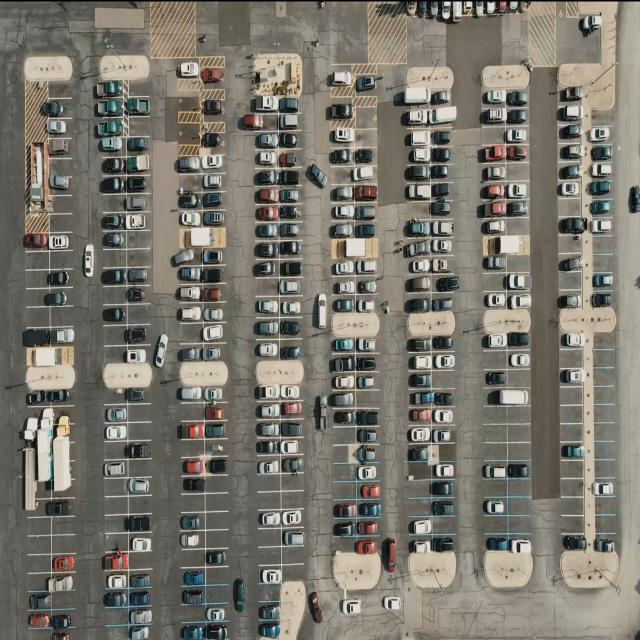space-empty: (125, 115, 153, 136), (353, 105, 378, 128), (103, 324, 128, 346), (198, 228, 225, 248), (51, 306, 75, 328), (103, 532, 129, 552), (102, 285, 128, 305), (24, 308, 50, 328), (557, 199, 583, 219), (558, 235, 584, 255), (103, 442, 129, 462), (125, 77, 152, 96), (252, 278, 279, 297), (409, 462, 436, 481), (178, 322, 202, 343), (404, 202, 432, 220), (252, 113, 280, 131), (104, 478, 129, 498), (49, 195, 74, 215), (482, 350, 507, 370), (483, 442, 508, 462), (508, 442, 533, 462), (103, 514, 128, 534), (353, 129, 378, 149), (129, 422, 154, 442), (480, 127, 506, 146), (102, 194, 128, 213), (205, 492, 231, 511), (127, 403, 153, 422), (258, 491, 284, 510), (52, 533, 78, 552), (178, 124, 201, 145), (593, 384, 616, 405), (27, 516, 51, 536), (508, 368, 532, 388), (28, 534, 52, 554), (258, 527, 282, 547), (206, 566, 230, 586), (592, 348, 616, 368), (560, 478, 584, 498), (507, 253, 531, 273), (558, 272, 582, 292), (128, 247, 152, 267), (333, 462, 357, 482), (332, 444, 356, 464), (506, 496, 530, 516), (102, 248, 127, 267), (26, 250, 51, 269), (176, 173, 201, 192), (180, 493, 205, 512), (433, 516, 458, 535), (593, 332, 618, 351), (103, 495, 128, 514), (507, 480, 532, 499), (280, 545, 305, 564), (281, 562, 306, 581), (49, 159, 74, 178), (507, 407, 532, 426), (180, 441, 206, 459), (484, 516, 510, 534), (52, 516, 78, 534), (52, 592, 78, 610), (332, 426, 358, 444), (105, 607, 131, 625), (128, 304, 150, 325), (260, 584, 283, 604), (593, 366, 616, 386), (179, 604, 206, 621), (506, 163, 530, 182), (433, 371, 457, 390), (560, 349, 584, 368), (590, 255, 614, 274), (129, 458, 153, 477), (28, 554, 52, 573), (560, 386, 584, 405), (259, 475, 283, 494), (509, 516, 533, 535), (483, 273, 507, 292), (507, 217, 531, 236), (591, 236, 615, 255), (260, 547, 284, 566), (128, 231, 152, 250), (355, 389, 379, 408), (206, 529, 230, 548), (408, 480, 432, 499), (206, 512, 230, 531), (334, 481, 358, 500), (25, 270, 49, 289), (484, 407, 508, 426), (560, 496, 584, 515), (26, 288, 50, 307), (180, 550, 205, 568), (179, 404, 204, 422), (408, 498, 433, 516), (560, 405, 582, 425), (561, 459, 584, 478), (280, 472, 303, 491), (484, 423, 507, 442), (281, 490, 304, 509), (50, 213, 73, 232), (508, 424, 532, 442), (130, 553, 154, 571), (206, 476, 230, 494), (333, 534, 357, 552), (590, 108, 614, 126), (484, 480, 508, 498), (48, 80, 72, 98), (560, 516, 584, 534), (28, 573, 50, 592), (594, 405, 616, 424), (594, 423, 616, 442), (594, 442, 616, 461), (104, 345, 126, 364), (50, 250, 73, 268), (129, 496, 152, 514), (331, 167, 354, 185), (207, 586, 230, 604), (560, 424, 583, 442), (178, 97, 202, 114), (595, 459, 616, 478), (436, 444, 457, 463), (594, 497, 616, 515), (595, 516, 617, 534), (105, 386, 127, 404), (108, 626, 130, 640), (30, 628, 54, 640)
space-occupied: (495, 386, 531, 406), (94, 98, 123, 119), (332, 99, 356, 124), (331, 65, 355, 90), (486, 385, 516, 405), (124, 96, 151, 118), (45, 118, 72, 140), (405, 292, 433, 313), (558, 214, 586, 235), (404, 106, 432, 127), (96, 117, 125, 137), (102, 304, 128, 326), (44, 98, 71, 119), (94, 78, 121, 99), (405, 181, 433, 201), (202, 96, 225, 120), (402, 89, 431, 108), (253, 318, 279, 339), (431, 105, 457, 126), (587, 178, 614, 198), (405, 217, 432, 237), (405, 238, 432, 258), (257, 296, 281, 318), (202, 321, 226, 343), (201, 65, 225, 87), (126, 155, 151, 176), (330, 126, 355, 147), (177, 59, 202, 80), (100, 137, 126, 157), (102, 211, 128, 231), (102, 231, 128, 251), (254, 220, 280, 240), (258, 510, 284, 530), (179, 528, 205, 548), (409, 444, 435, 464), (178, 420, 204, 440), (482, 459, 508, 479), (332, 408, 358, 428), (558, 103, 584, 123), (50, 573, 76, 593), (101, 268, 128, 287), (434, 274, 461, 293), (406, 274, 433, 293), (355, 72, 377, 95), (508, 348, 532, 369), (47, 175, 71, 196), (558, 288, 582, 309), (178, 303, 202, 324), (256, 339, 280, 360), (591, 288, 615, 309), (480, 201, 508, 219), (481, 106, 506, 126), (47, 138, 72, 158), (507, 273, 532, 293), (481, 180, 506, 200), (176, 283, 201, 303), (101, 157, 126, 177), (179, 512, 204, 532), (104, 553, 129, 573), (255, 401, 280, 421), (26, 386, 51, 406), (432, 294, 457, 314), (126, 137, 152, 156), (481, 333, 507, 352), (252, 95, 278, 114), (558, 125, 584, 144), (480, 144, 506, 163), (200, 247, 226, 266), (558, 142, 584, 161), (406, 164, 432, 183), (481, 217, 507, 236), (279, 317, 302, 338), (280, 340, 303, 361), (202, 130, 225, 151), (128, 267, 152, 287), (52, 553, 76, 573), (330, 148, 354, 168), (260, 564, 284, 584), (127, 211, 151, 231), (51, 326, 75, 346), (433, 350, 457, 370), (129, 568, 153, 588), (561, 442, 585, 462), (26, 232, 50, 252), (590, 198, 614, 218), (484, 496, 508, 516), (483, 288, 507, 308), (408, 351, 432, 371), (409, 424, 433, 444), (408, 256, 432, 276), (332, 372, 356, 392), (355, 536, 379, 556), (433, 256, 457, 276), (557, 179, 582, 198), (352, 146, 377, 165), (102, 175, 127, 194), (256, 131, 281, 150), (255, 260, 280, 279), (481, 163, 506, 182), (334, 498, 359, 517), (255, 419, 280, 438), (52, 611, 77, 630), (331, 390, 357, 408), (485, 534, 511, 552), (280, 297, 302, 318), (282, 509, 304, 530), (129, 477, 152, 497), (105, 422, 128, 442), (279, 277, 302, 297), (207, 602, 230, 622), (507, 179, 530, 199), (432, 217, 455, 237), (181, 456, 204, 476), (433, 424, 456, 444), (203, 304, 226, 324), (280, 400, 303, 420), (354, 444, 377, 464), (202, 282, 225, 302), (258, 620, 281, 640), (588, 126, 612, 145), (508, 332, 532, 351), (104, 458, 128, 477), (560, 332, 584, 351), (409, 517, 433, 536), (104, 405, 128, 424), (181, 476, 205, 495), (508, 459, 532, 478), (507, 107, 531, 126), (506, 126, 530, 145), (278, 260, 302, 279), (201, 154, 225, 173), (558, 255, 582, 274), (558, 162, 582, 181), (589, 217, 613, 236), (256, 241, 280, 260), (410, 388, 434, 407), (431, 534, 455, 553), (481, 90, 505, 109), (484, 368, 508, 387), (201, 266, 225, 285), (130, 532, 154, 551), (592, 272, 616, 291), (352, 165, 376, 184), (431, 480, 455, 499), (129, 589, 153, 608), (279, 438, 303, 457), (127, 174, 151, 193), (200, 344, 224, 363), (408, 128, 432, 147), (407, 336, 432, 354), (105, 590, 130, 608), (280, 528, 305, 546), (589, 162, 614, 180), (178, 385, 203, 403), (333, 519, 358, 537), (507, 292, 532, 310), (589, 144, 614, 162), (561, 533, 586, 551), (254, 384, 280, 401), (558, 87, 584, 104), (180, 623, 206, 640), (128, 324, 149, 345), (206, 455, 228, 475), (205, 420, 227, 440), (128, 284, 150, 304), (127, 345, 149, 365), (594, 532, 616, 552), (206, 549, 229, 568), (50, 497, 73, 516), (507, 143, 530, 162), (560, 368, 583, 387), (201, 172, 224, 191), (129, 514, 152, 533), (431, 145, 454, 164), (280, 455, 303, 474), (204, 403, 227, 422), (278, 149, 301, 168), (593, 479, 616, 498), (354, 203, 377, 222), (433, 408, 456, 427), (48, 287, 71, 306), (483, 254, 507, 272), (180, 568, 204, 586), (178, 191, 202, 209), (255, 204, 279, 222), (407, 145, 431, 163), (409, 372, 433, 390), (433, 498, 457, 516), (181, 587, 205, 605), (333, 338, 357, 356), (409, 407, 433, 425), (254, 149, 278, 167), (356, 499, 380, 517), (352, 184, 376, 202), (332, 296, 356, 314), (258, 456, 282, 474), (430, 238, 454, 256), (333, 277, 357, 295), (257, 439, 281, 457), (176, 266, 200, 284), (332, 203, 356, 221), (254, 168, 278, 186), (257, 185, 281, 203), (176, 248, 200, 266), (278, 222, 302, 240), (50, 232, 71, 252), (130, 442, 152, 461), (356, 425, 378, 444), (279, 240, 301, 259), (355, 372, 377, 391), (278, 131, 300, 150), (29, 592, 51, 611), (355, 276, 377, 295), (430, 128, 452, 147), (333, 221, 355, 240), (128, 194, 150, 213), (510, 533, 532, 552), (260, 602, 283, 620), (433, 388, 456, 406), (177, 156, 200, 174), (332, 184, 355, 202), (202, 210, 225, 228), (357, 482, 380, 500), (355, 410, 378, 428), (178, 210, 201, 228), (507, 200, 530, 218), (105, 570, 128, 588), (430, 182, 453, 200), (280, 419, 303, 437), (429, 90, 452, 108), (507, 91, 530, 109), (333, 354, 356, 372), (178, 345, 201, 363), (356, 519, 379, 537), (24, 331, 51, 346), (279, 96, 300, 115), (202, 190, 224, 208), (50, 270, 72, 288), (279, 204, 301, 222), (355, 257, 377, 275), (334, 260, 356, 278), (354, 296, 376, 314), (279, 185, 301, 203), (409, 534, 431, 552), (52, 386, 74, 404), (279, 384, 302, 401), (433, 336, 456, 353), (431, 165, 454, 182), (430, 201, 453, 218), (129, 609, 152, 626), (355, 464, 378, 481), (127, 387, 151, 403), (278, 113, 299, 131), (355, 353, 376, 371), (30, 612, 52, 629), (354, 222, 376, 239), (354, 338, 376, 355), (278, 170, 300, 187), (434, 462, 457, 478), (128, 625, 152, 640), (203, 387, 225, 403), (204, 624, 226, 640), (50, 628, 76, 640)
